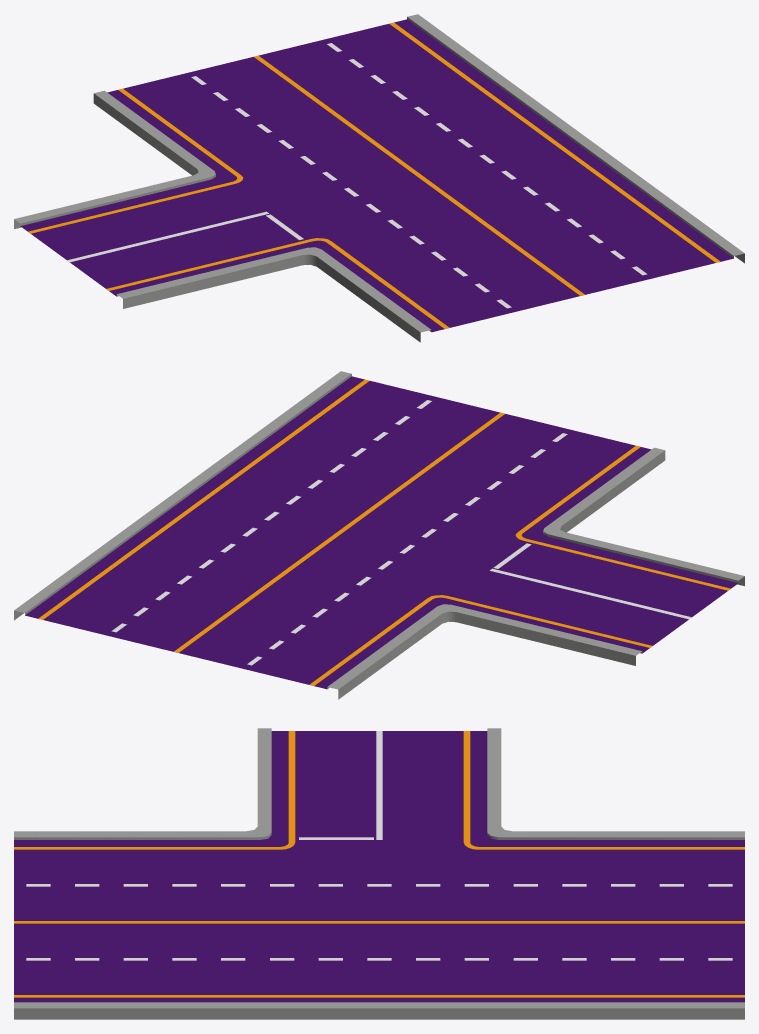
The model's file is Road_C_2L_2_4.fbx.
3 views of the same model, one above another, from view 1: azimuth 30°, elevation 25°; view 2: azimuth 150°, elevation 25°; view 3: azimuth 270°, elevation 25° (orthographic). The views are drawn at different scales.
Visible parts, largest first — view 1: Road_C_2L_2_4; view 2: Road_C_2L_2_4; view 3: Road_C_2L_2_4.
Part boxes in pixels (left/top/right/bottom): Road_C_2L_2_4: left=14, top=14, right=744, bottom=342; Road_C_2L_2_4: left=14, top=371, right=744, bottom=699; Road_C_2L_2_4: left=14, top=728, right=744, bottom=1019.
Bounding box in the file's own units: 2175 × 41.48 × 2400.
